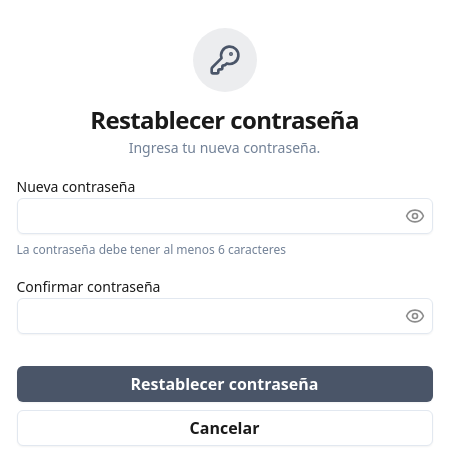
Test: reset password field errors › marks the new password invalid and describes why when it is too short
The image size is (450, 475).
Type "corta" into the password field labelled "Nueva contraseña".
click(224, 216); type("corta")  # box [16,198,432,234]
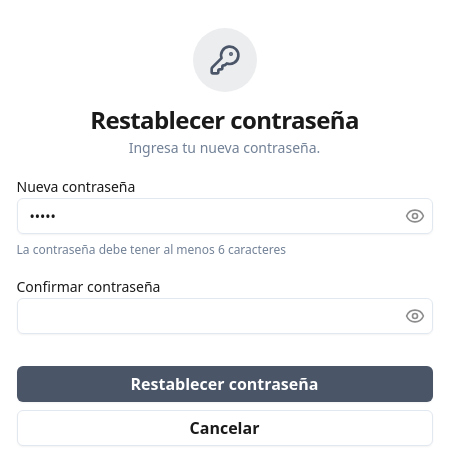
Type "corta" into the password field labelled "Confirmar contraseña".
click(224, 316); type("corta")  # box [16,298,432,334]
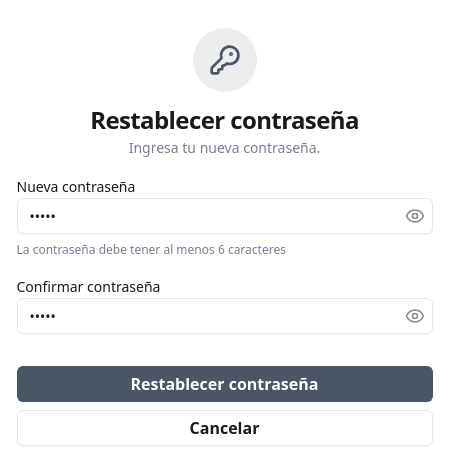
Click the button "Restablecer contraseña".
click(224, 384)  # box [16,366,432,402]
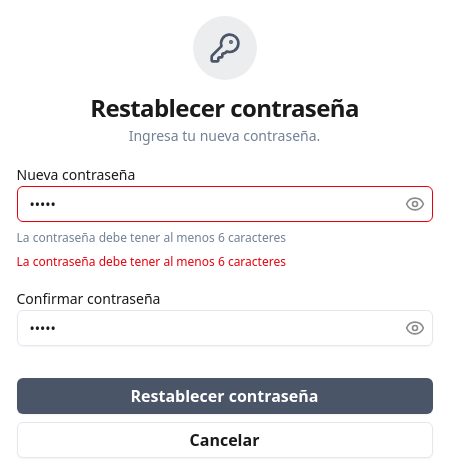
Result: the password field labelled "Nueva contraseña" is marked as invalid at [16,186,432,222]
